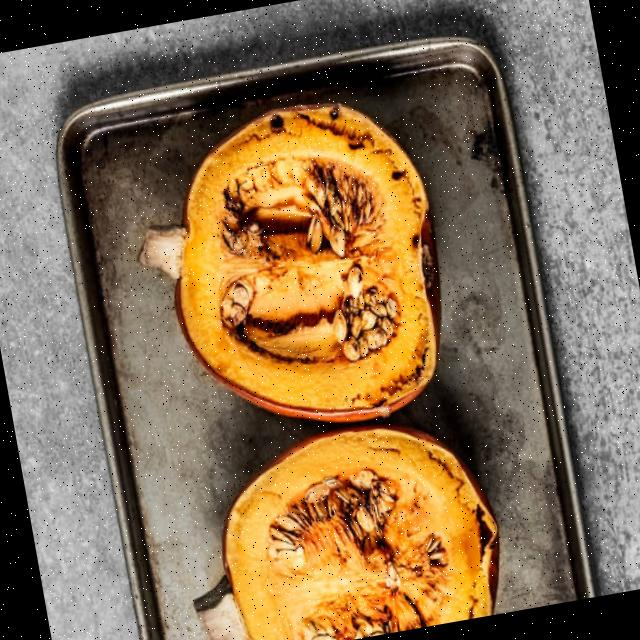pumpkin: (137, 100, 443, 425), (201, 421, 501, 640)
